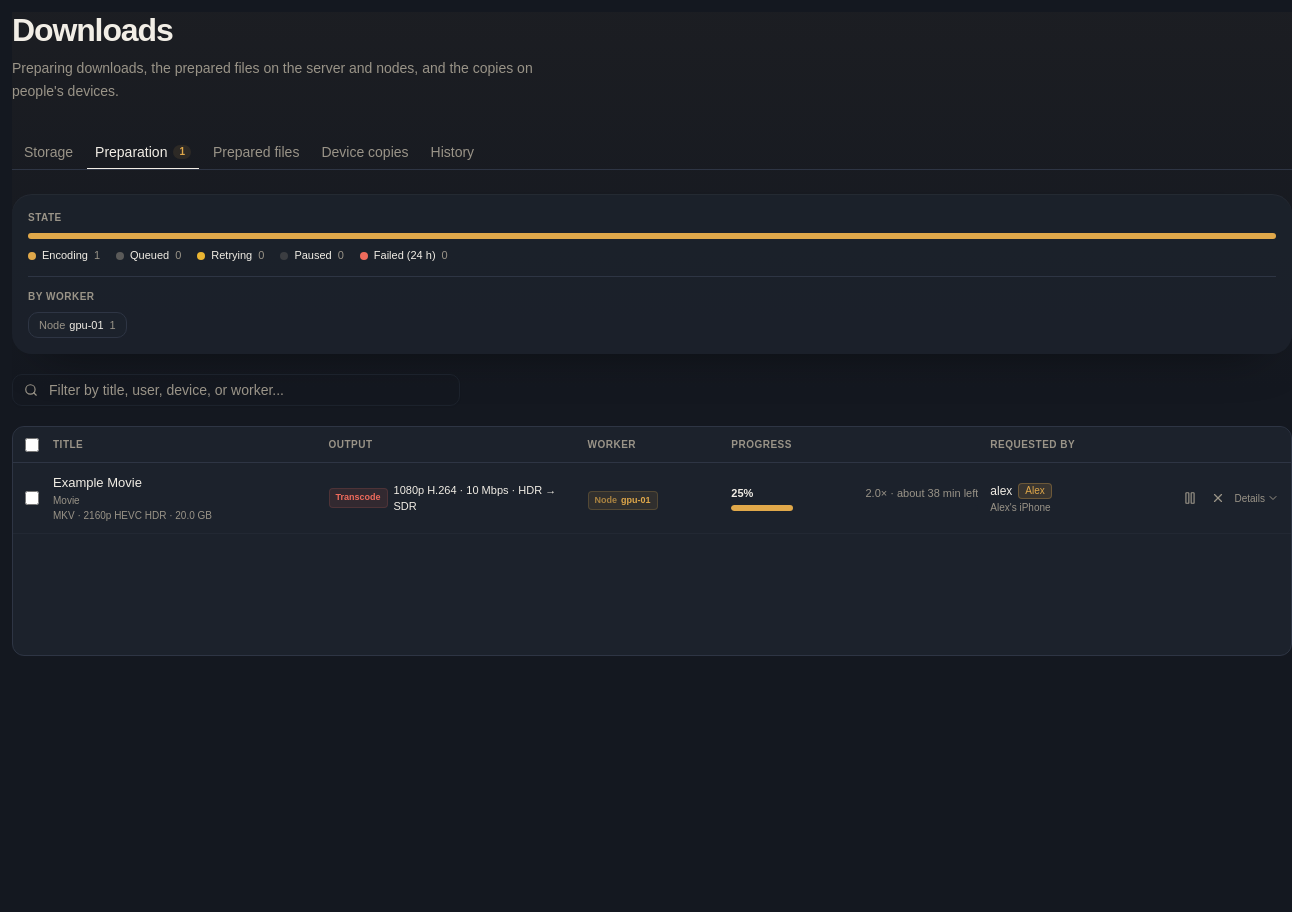
it: AdminDownloads preparation tab › expands job details with the FFmpeg console and log link
This screenshot has width=1292, height=912.
Click the button with aria-label "Details for Example Movie" at (1257, 498), box [1234, 490, 1279, 506]
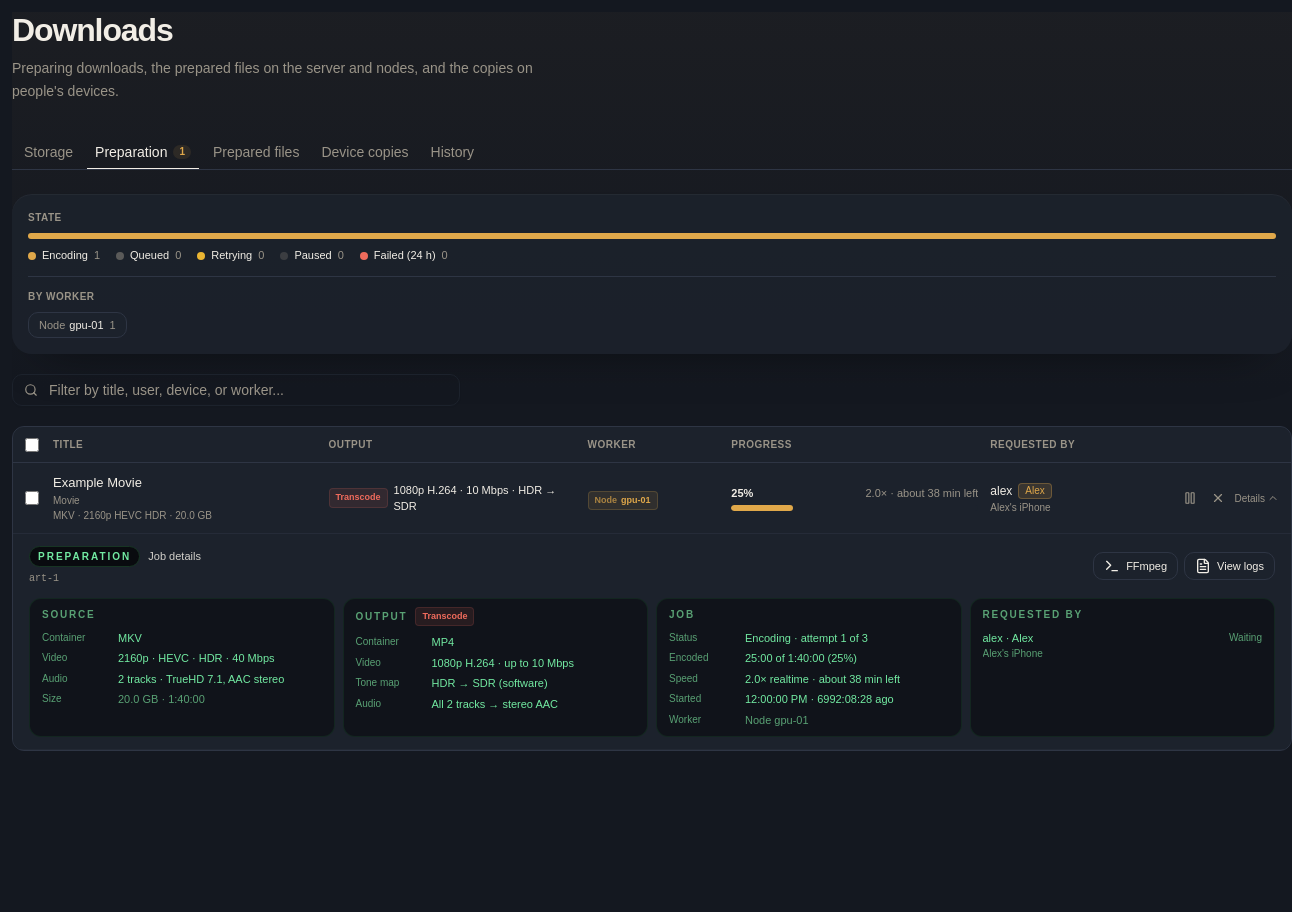
Now the text "All 2 tracks → stereo AAC" is shown, box [432, 698, 558, 710]
Now the text "HDR → SDR (software)" is shown, box [432, 677, 548, 689]
Now the text "25:00 of 1:40:00 (25%)" is shown, box [745, 652, 857, 664]
Click the button "FFmpeg" at (1136, 566), box [1093, 552, 1178, 580]
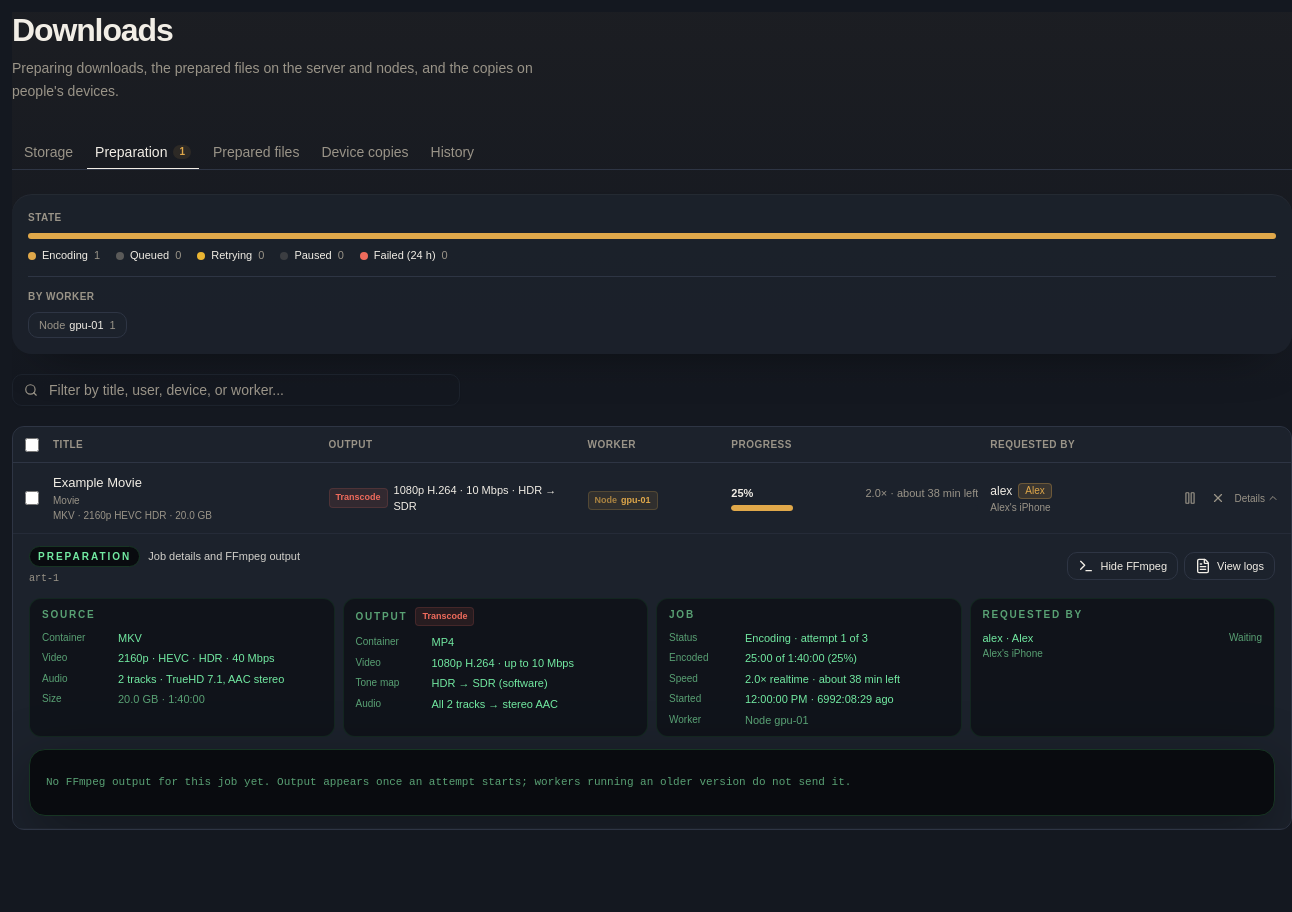
Now the text "No FFmpeg output for this job yet" is shown, box [46, 776, 851, 788]
